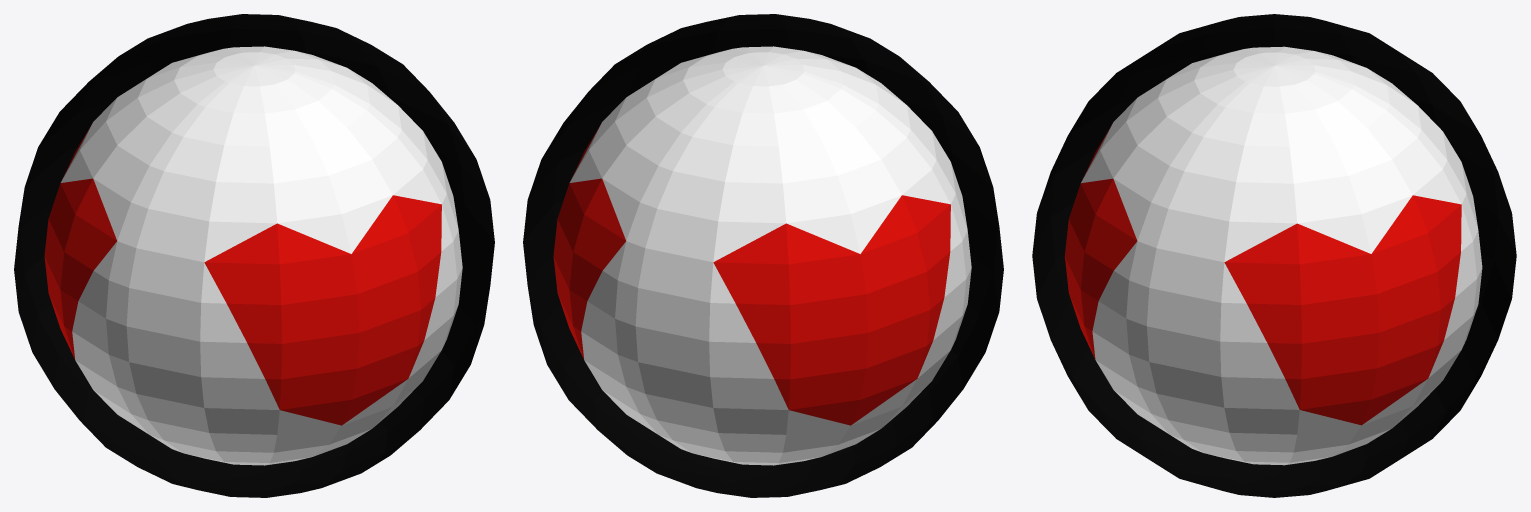
File: Heal.fbx
The picture shows the model from 3 angles, left to right: view 1: azimuth 30°, elevation 25°; view 2: azimuth 150°, elevation 25°; view 3: azimuth 270°, elevation 25°; orthographic projection.
Parts seen in each view (by area): view 1: HealPWR; view 2: HealPWR; view 3: HealPWR.
Boxes of the visible parts, x1,y1,x2,y2 form: HealPWR: (14, 14, 494, 497); HealPWR: (523, 14, 1003, 497); HealPWR: (1032, 14, 1516, 497).
Bounding box in the file's own units: 231 × 231 × 231.
